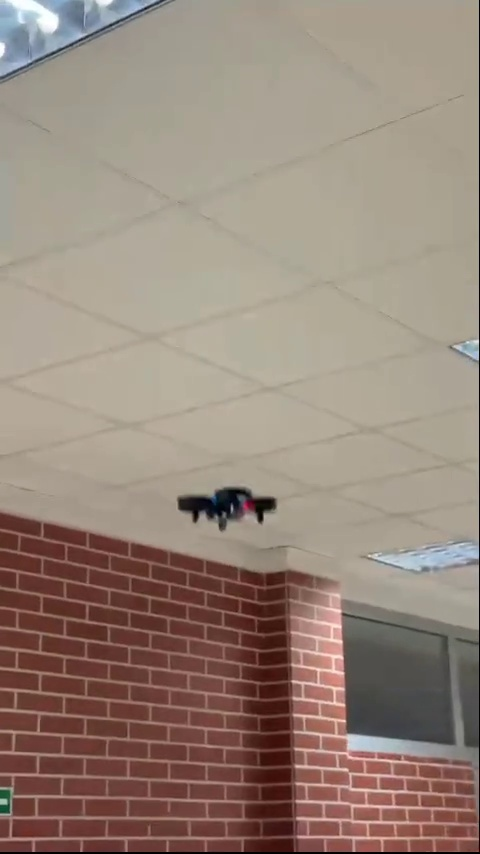drone: (170, 483, 280, 530)
